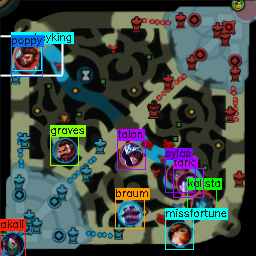akali: (1, 232, 23, 255)
braum: (116, 200, 141, 226)
graves: (52, 137, 76, 162)
kalista: (190, 192, 214, 215)
missfortune: (167, 221, 192, 247)
monkeyking: (14, 43, 37, 68)
poppy: (14, 53, 37, 76)
sylas: (166, 162, 189, 187)
talon: (119, 142, 142, 166)
taric: (175, 171, 200, 194)
